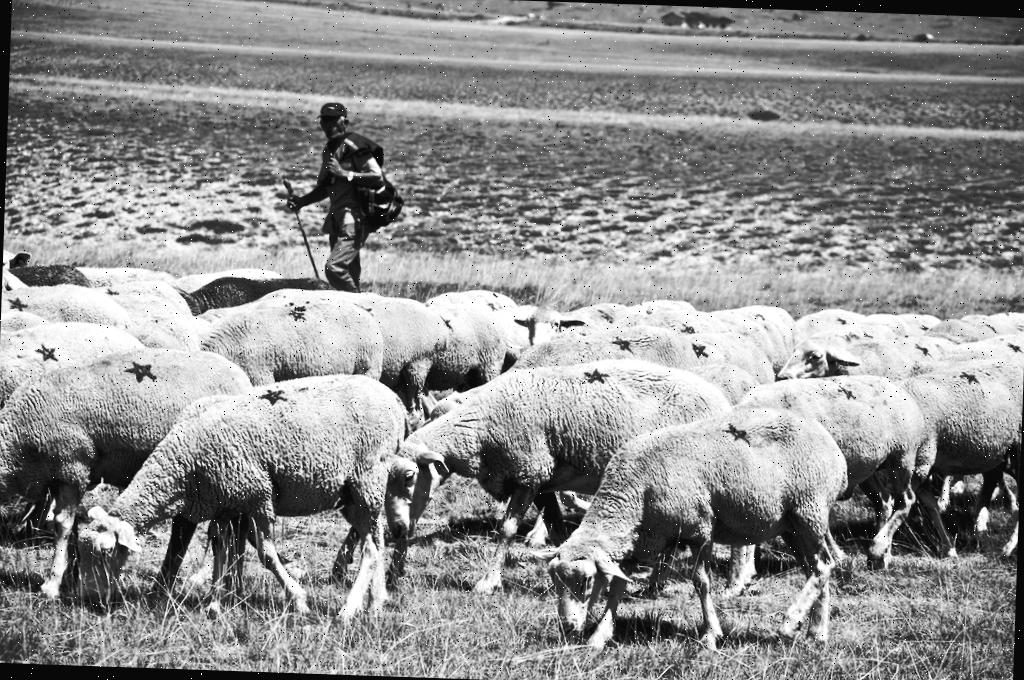Sheep: (59, 362, 408, 628), (380, 348, 730, 596), (543, 398, 850, 668), (0, 340, 267, 612), (690, 366, 935, 578), (862, 360, 1024, 566), (184, 286, 388, 440), (500, 319, 746, 415), (0, 317, 167, 441), (312, 294, 442, 430), (770, 335, 942, 423), (394, 298, 512, 422), (506, 288, 658, 356)
